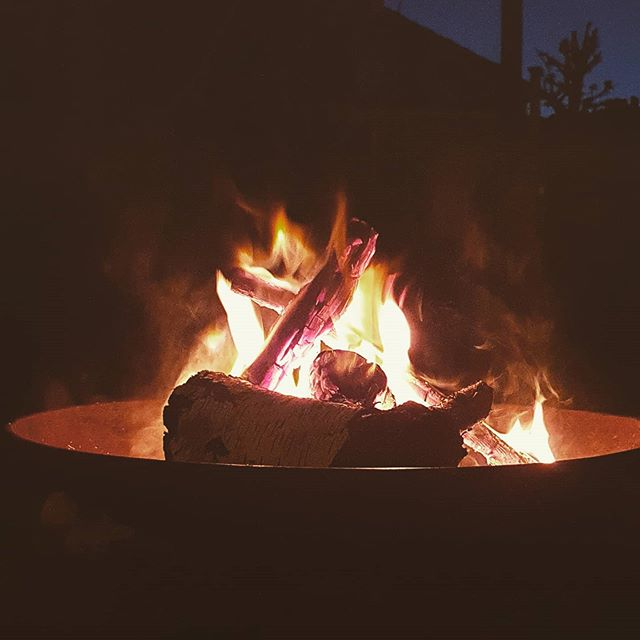fireplace: (2, 132, 611, 511)
